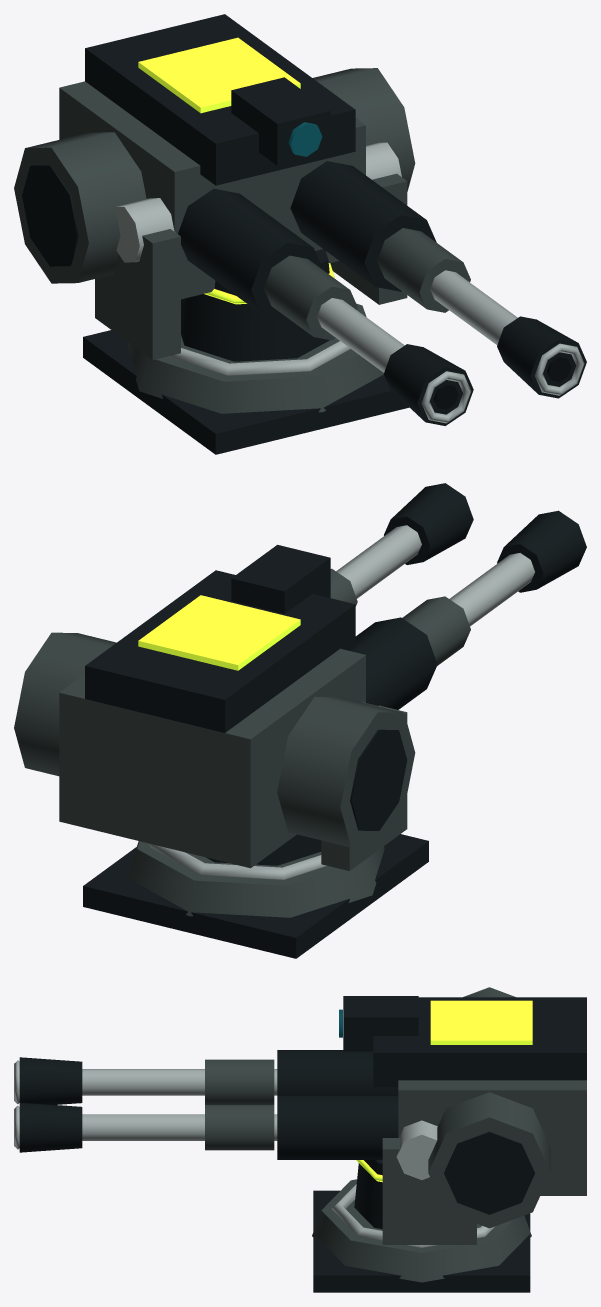
File: twin-repeater-lod3.glb
3 views of the same model, one above another, from view 1: azimuth 30°, elevation 25°; view 2: azimuth 150°, elevation 25°; view 3: azimuth 270°, elevation 25° (orthographic). The views are drawn at different scales.
Visible parts, largest first — view 1: receivers__Recessed_carbon_mechanism, receiver__Recessed_carbon_mechanism, ammunition-drums__Cerakote_graphite_armor, receiver__Cerakote_graphite_armor, mount__Cerakote_graphite_armor, mount__Recessed_carbon_mechanism, cradle__Cerakote_graphite_armor, thermal-sleeves__Cerakote_graphite_armor, muzzle-brakes__Recessed_carbon_mechanism, yaw-drive__Recessed_carbon_mechanism, identification__Velocity_chartreuse_identification, twin-barrels__Machined_titanium (+7 smaller); view 2: receiver__Cerakote_graphite_armor, ammunition-drums__Cerakote_graphite_armor, receiver__Recessed_carbon_mechanism, mount__Recessed_carbon_mechanism, mount__Cerakote_graphite_armor, muzzle-brakes__Recessed_carbon_mechanism, identification__Velocity_chartreuse_identification, twin-barrels__Machined_titanium, receivers__Recessed_carbon_mechanism, sensor__Recessed_carbon_mechanism, ammunition-drums__Recessed_carbon_mechanism, thermal-sleeves__Cerakote_graphite_armor (+3 smaller); view 3: receivers__Recessed_carbon_mechanism, receiver__Recessed_carbon_mechanism, receiver__Cerakote_graphite_armor, ammunition-drums__Cerakote_graphite_armor, mount__Cerakote_graphite_armor, twin-barrels__Machined_titanium, thermal-sleeves__Cerakote_graphite_armor, mount__Recessed_carbon_mechanism, muzzle-brakes__Recessed_carbon_mechanism, cradle__Cerakote_graphite_armor, ammunition-drums__Recessed_carbon_mechanism, identification__Velocity_chartreuse_identification (+5 smaller).
Part boxes in pixels (left/top/right/bottom): receivers__Recessed_carbon_mechanism: left=178, top=161, right=436, bottom=319; receiver__Recessed_carbon_mechanism: left=85, top=14, right=355, bottom=185; ammunition-drums__Cerakote_graphite_armor: left=14, top=68, right=415, bottom=283; receiver__Cerakote_graphite_armor: left=59, top=81, right=365, bottom=299; mount__Cerakote_graphite_armor: left=127, top=303, right=383, bottom=413; mount__Recessed_carbon_mechanism: left=83, top=330, right=409, bottom=454; cradle__Cerakote_graphite_armor: left=95, top=173, right=407, bottom=359; thermal-sleeves__Cerakote_graphite_armor: left=264, top=228, right=470, bottom=340; muzzle-brakes__Recessed_carbon_mechanism: left=384, top=316, right=586, bottom=425; yaw-drive__Recessed_carbon_mechanism: left=181, top=249, right=329, bottom=361; identification__Velocity_chartreuse_identification: left=138, top=37, right=300, bottom=113; twin-barrels__Machined_titanium: left=317, top=270, right=517, bottom=372; receiver__Cerakote_graphite_armor: left=59, top=648, right=365, bottom=868; ammunition-drums__Cerakote_graphite_armor: left=14, top=632, right=415, bottom=847; receiver__Recessed_carbon_mechanism: left=85, top=570, right=355, bottom=734; mount__Recessed_carbon_mechanism: left=83, top=834, right=428, bottom=958; mount__Cerakote_graphite_armor: left=127, top=841, right=384, bottom=917; muzzle-brakes__Recessed_carbon_mechanism: left=384, top=483, right=586, bottom=592; identification__Velocity_chartreuse_identification: left=138, top=595, right=300, bottom=670; twin-barrels__Machined_titanium: left=336, top=525, right=534, bottom=626; receivers__Recessed_carbon_mechanism: left=349, top=617, right=437, bottom=709; sensor__Recessed_carbon_mechanism: left=231, top=544, right=330, bottom=613; ammunition-drums__Recessed_carbon_mechanism: left=350, top=729, right=407, bottom=830; thermal-sleeves__Cerakote_graphite_armor: left=330, top=568, right=470, bottom=665; receivers__Recessed_carbon_mechanism: left=277, top=1050, right=398, bottom=1159; receiver__Recessed_carbon_mechanism: left=373, top=997, right=586, bottom=1087; receiver__Cerakote_graphite_armor: left=398, top=1080, right=586, bottom=1195; ammunition-drums__Cerakote_graphite_armor: left=428, top=987, right=550, bottom=1228; mount__Cerakote_graphite_armor: left=312, top=1179, right=531, bottom=1282; twin-barrels__Machined_titanium: left=82, top=1069, right=277, bottom=1140; thermal-sleeves__Cerakote_graphite_armor: left=205, top=1059, right=274, bottom=1150; mount__Recessed_carbon_mechanism: left=313, top=1190, right=530, bottom=1292; muzzle-brakes__Recessed_carbon_mechanism: left=19, top=1057, right=82, bottom=1152; cradle__Cerakote_graphite_armor: left=382, top=1138, right=476, bottom=1244; ammunition-drums__Recessed_carbon_mechanism: left=444, top=1131, right=534, bottom=1214; identification__Velocity_chartreuse_identification: left=430, top=1000, right=532, bottom=1044.
Bounding box in the file's own units: 1.98 × 1.71 × 3.65.
